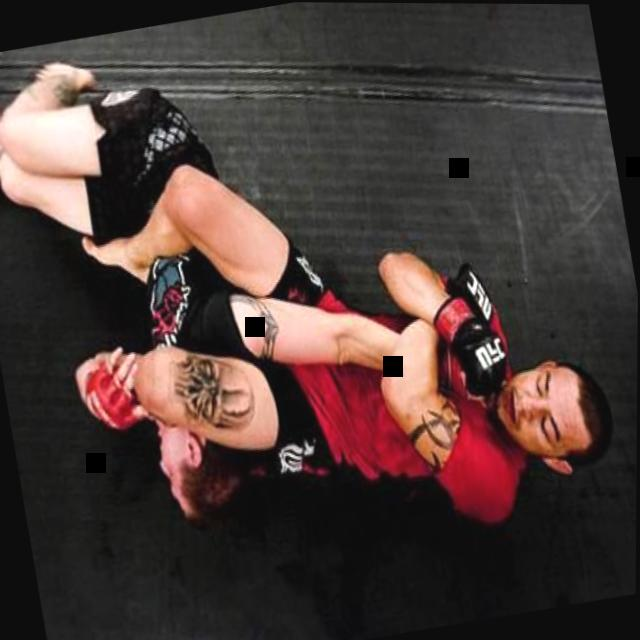Fall-Detected: (16, 0, 636, 550)
